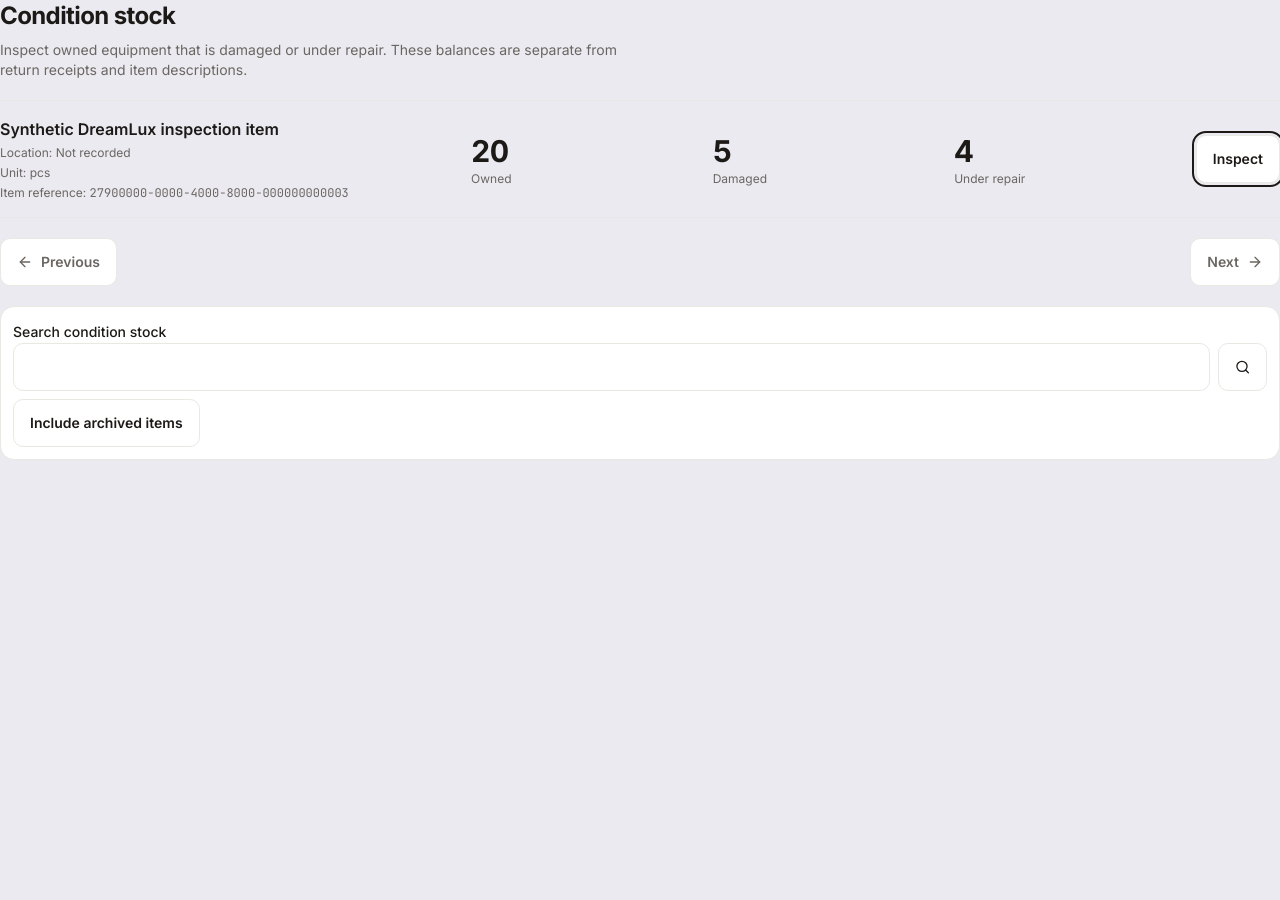
it: condition-stock operator interface › returns focus to the list owner and preserves an unsent draft on close
Click the button "Inspect" at (1238, 159), box [1196, 135, 1279, 183]
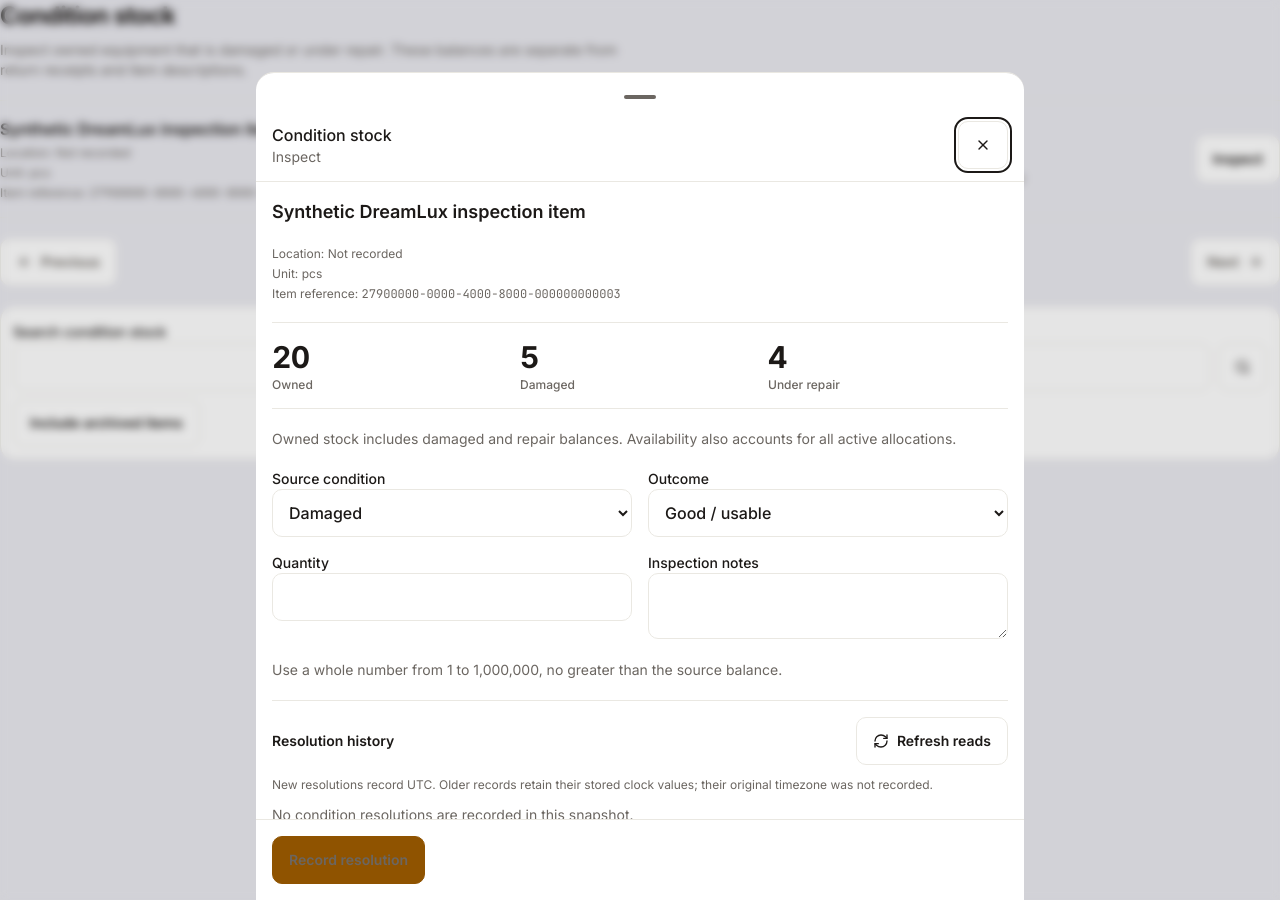
Check: the heading "Synthetic DreamLux inspection item" is shown, box [272, 201, 586, 222]
Type "Continue later" into the text box labelled "Inspection notes" at (828, 606), box [648, 573, 1008, 639]
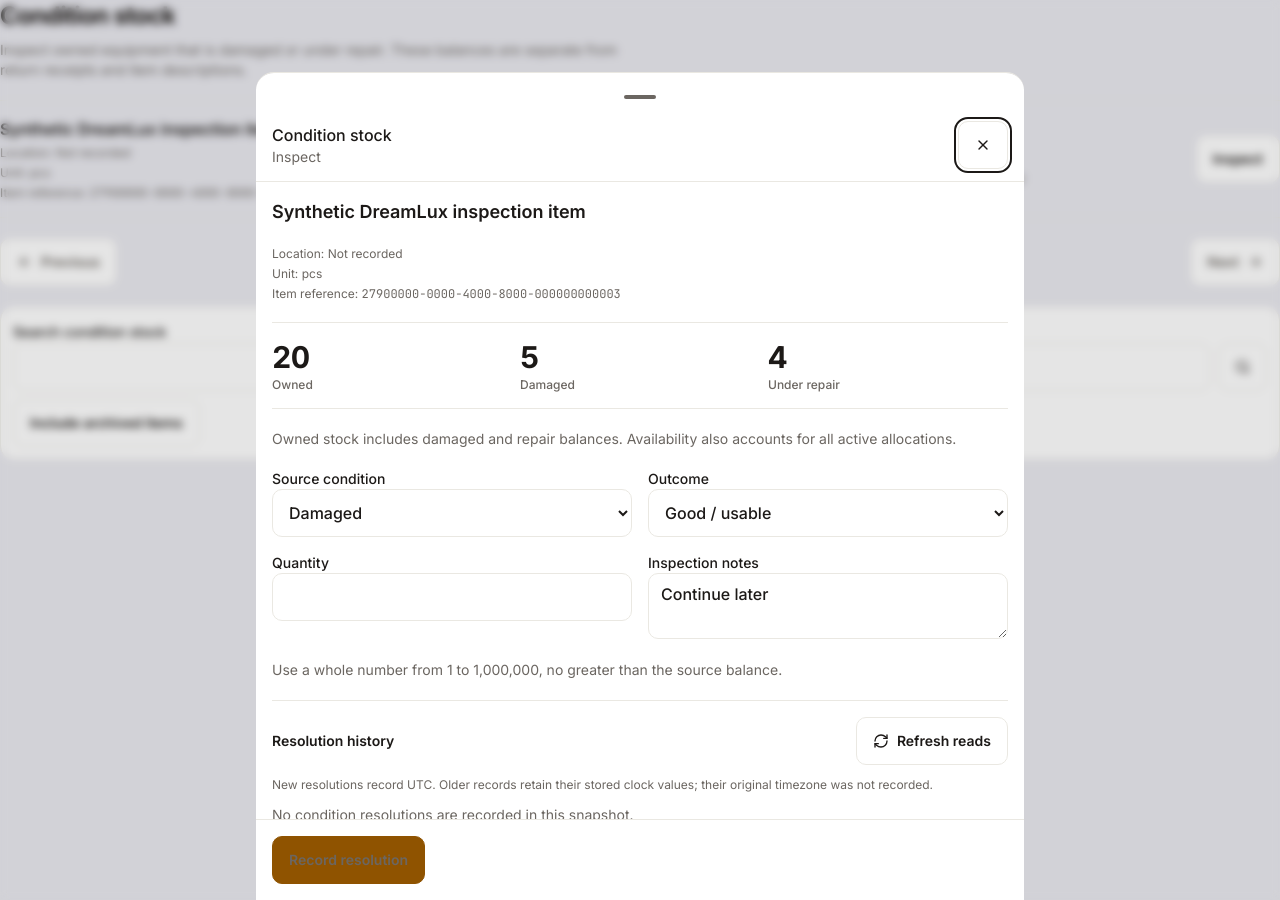
Click the button named "Close detail" at (983, 145), box [958, 121, 1008, 169]
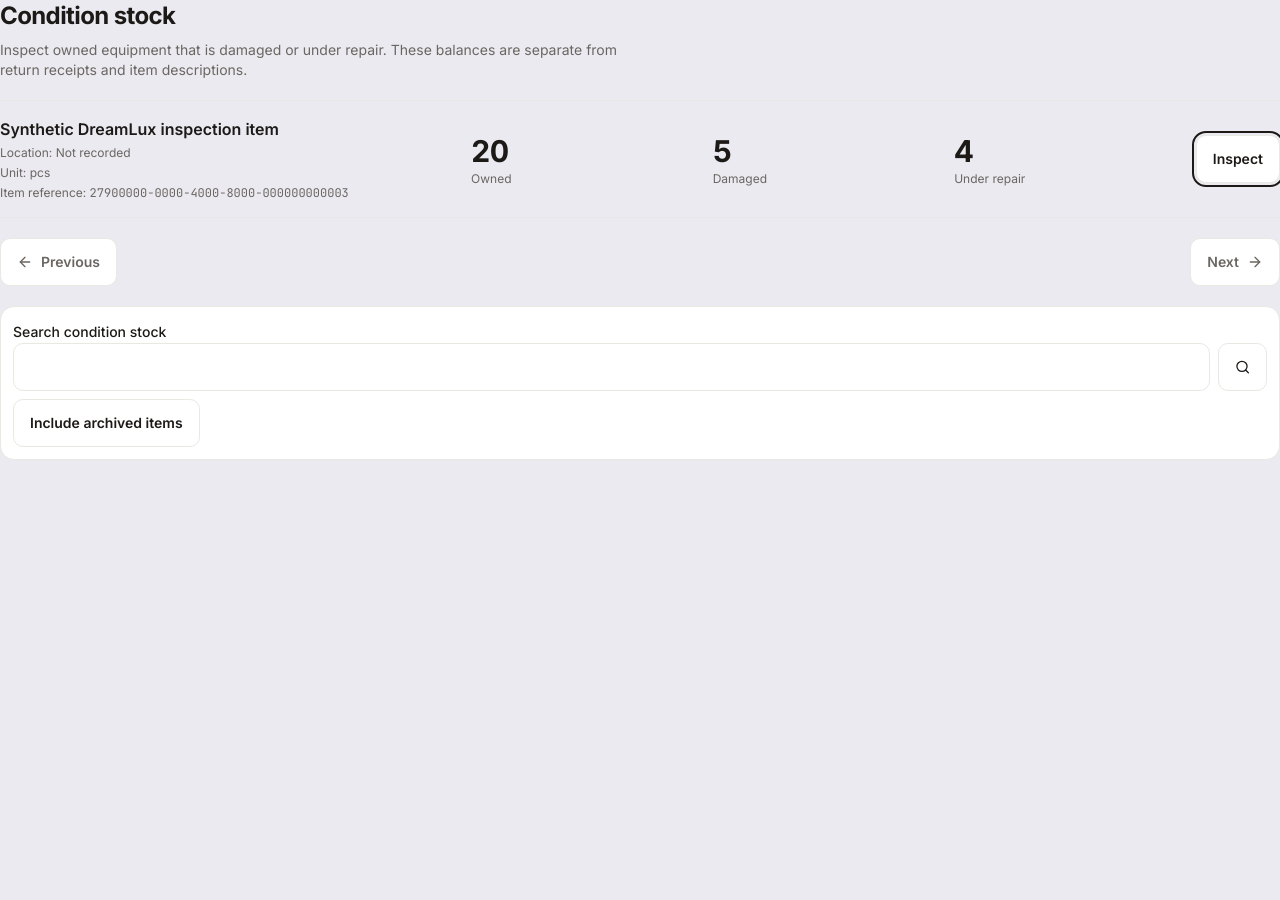
Click the button "Inspect" at (1238, 159), box [1196, 135, 1279, 183]
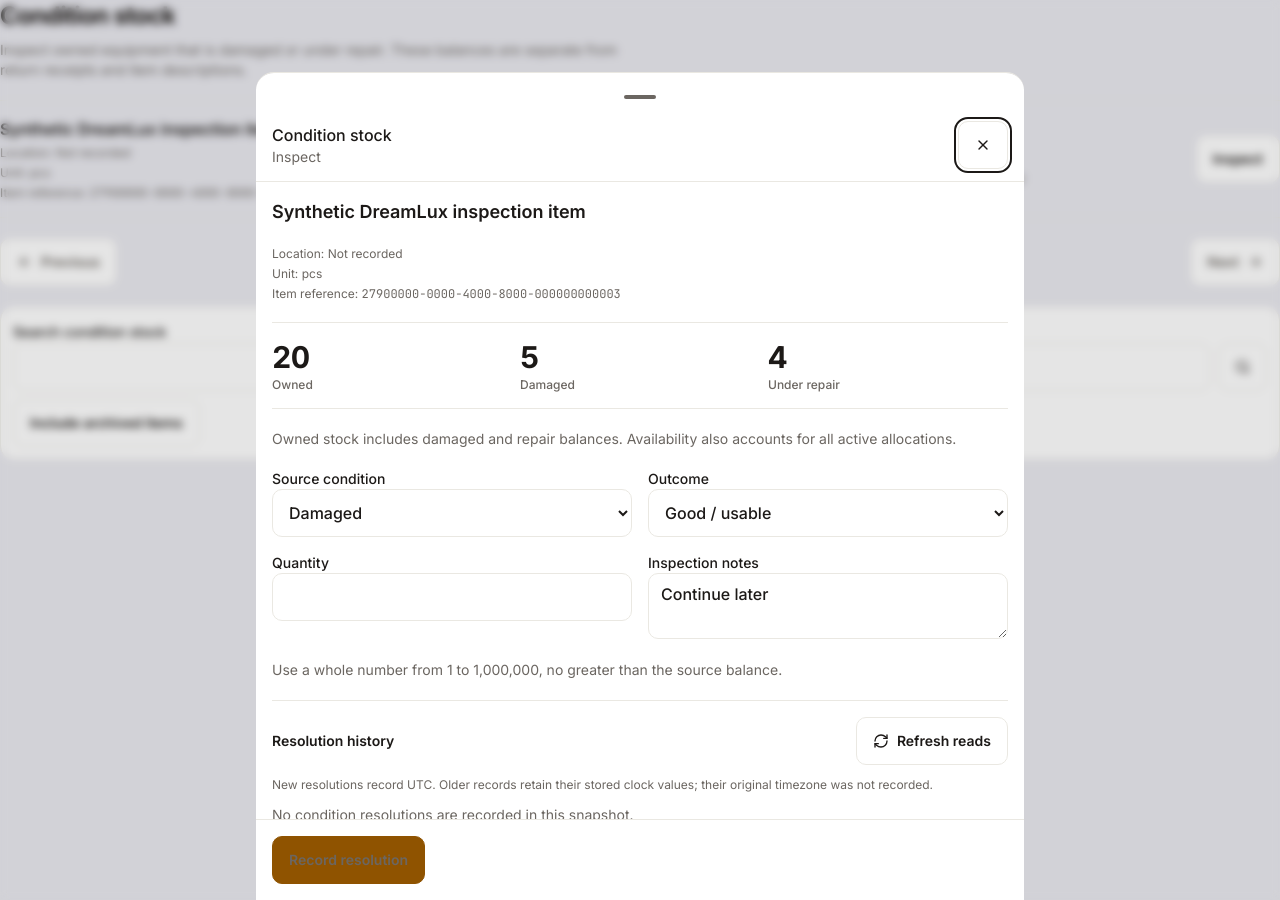
Check: the heading "Synthetic DreamLux inspection item" is shown, box [272, 201, 586, 222]
Check: the text box labelled "Inspection notes" holds "Continue later", box [648, 573, 1008, 639]
